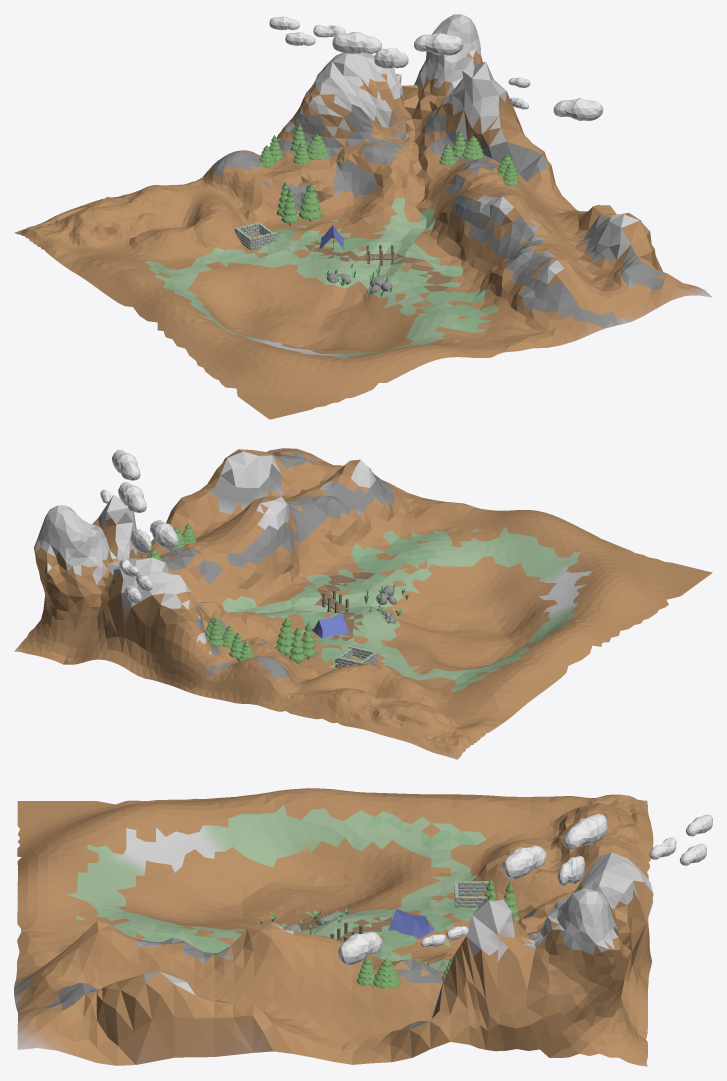
Rendered from lakeEEE.glb.
3 renders of one model, top to bottom at view 1: azimuth 30°, elevation 25°; view 2: azimuth 150°, elevation 25°; view 3: azimuth 270°, elevation 25°, orthographic. The views are drawn at different scales.
Parts seen in each view (by area): view 1: Plane, Icosphere.018, Icosphere.017, Icosphere.021; view 2: Plane, Icosphere.017, Icosphere.021, Plane.018, Icosphere.018; view 3: Plane, Icosphere.018, Icosphere.017, Icosphere.021, Plane.018, Icosphere.016, Icosphere.004.
Boxes of the visible parts, x1,y1,x2,y2 form: Plane: (14,14,712,419); Icosphere.018: (332,32,381,54); Icosphere.017: (414,32,463,55); Icosphere.021: (553,98,603,120); Plane: (14,448,712,759); Icosphere.017: (118,482,146,512); Icosphere.021: (112,449,140,480); Plane.018: (312,613,349,638); Icosphere.018: (150,520,178,548); Plane: (14,788,653,1066); Icosphere.018: (563,814,607,849); Icosphere.017: (502,845,546,878); Icosphere.021: (338,931,382,964); Plane.018: (388,909,434,938); Icosphere.016: (557,856,584,885); Icosphere.004: (373,958,400,988).
Bounding box in the file's own units: 344 × 119 × 362.
